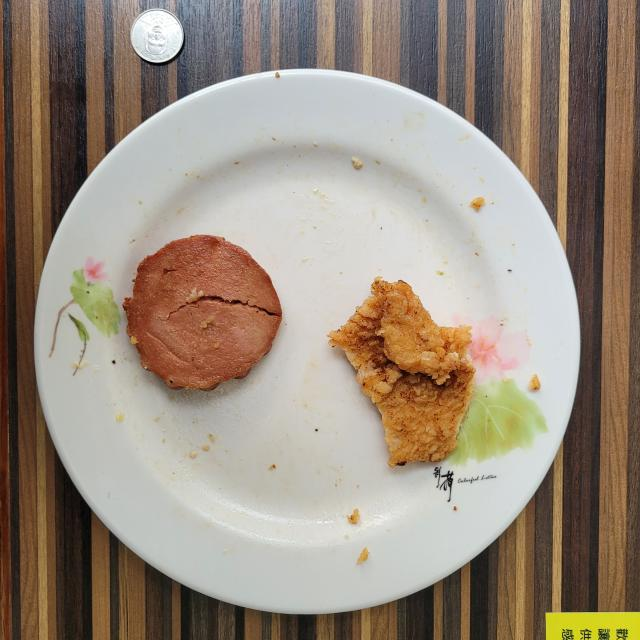Spam: (122, 235, 281, 390)
coin: (131, 9, 184, 62)
fried chicken cutlet: (329, 278, 475, 468)
